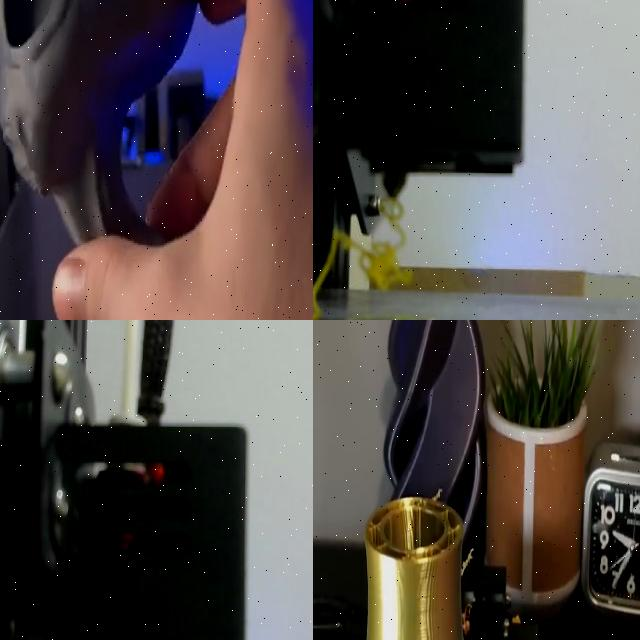spaghetti: (313, 198, 413, 320), (462, 542, 476, 582), (432, 482, 444, 499)
